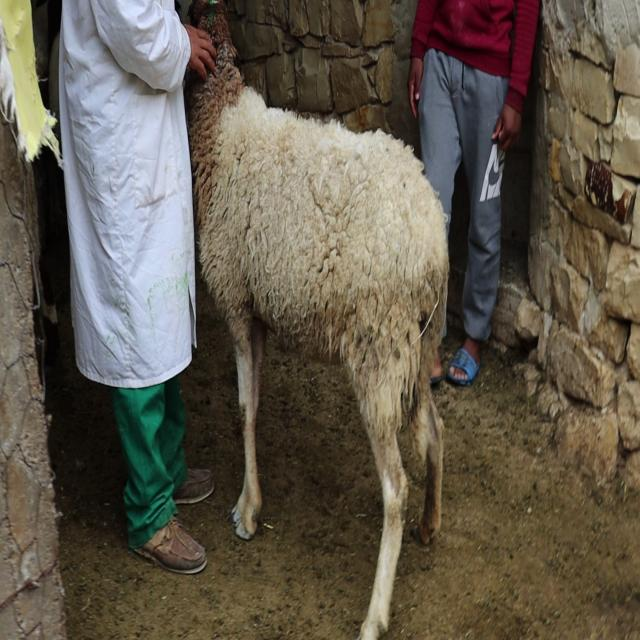Score_2: (185, 0, 449, 639)
